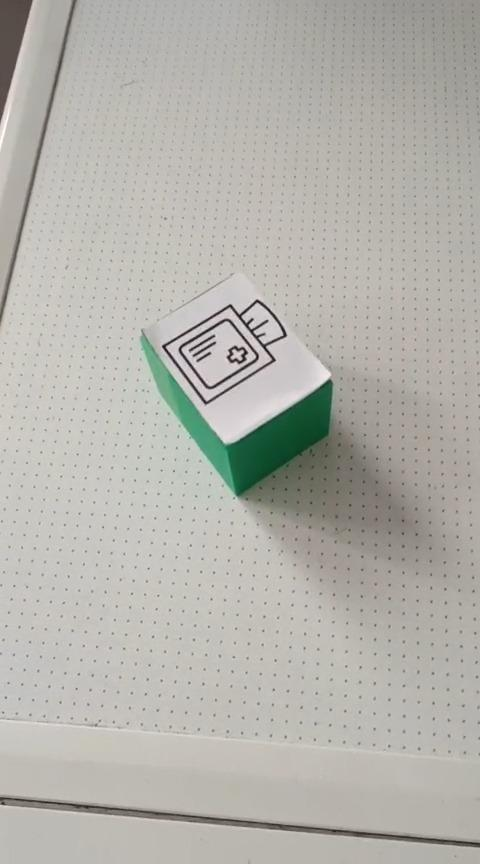Gauze: (138, 270, 334, 497)
